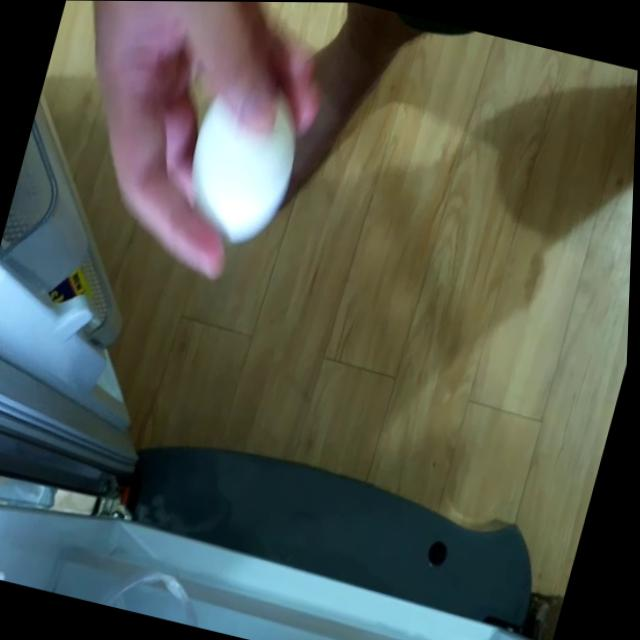egg: (165, 59, 321, 251)
